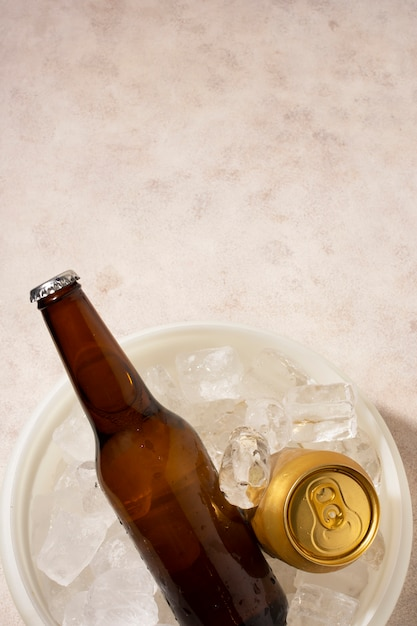alcohol: (29, 269, 288, 626), (246, 433, 386, 578)
